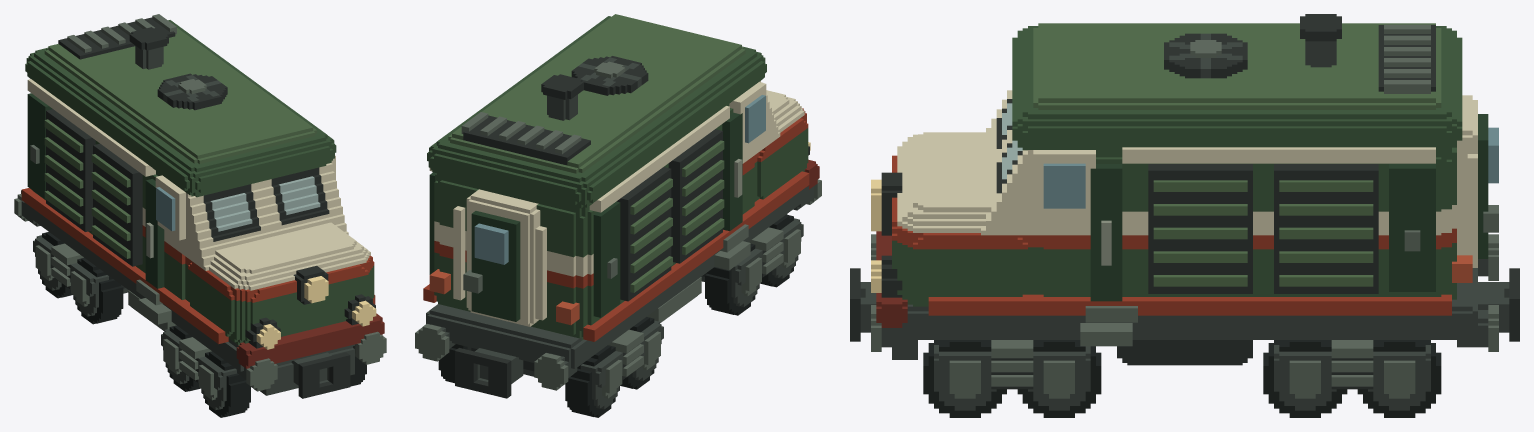
Rendered from locomotive.glb.
3 renders of one model, left to right at view 1: azimuth 30°, elevation 25°; view 2: azimuth 150°, elevation 25°; view 3: azimuth 270°, elevation 25°, orthographic. The views are drawn at different scales.
Visible parts, largest first — view 1: locomotive; view 2: locomotive; view 3: locomotive.
Part boxes in pixels (left/top/right/bottom): locomotive: left=14, top=14, right=386, bottom=417; locomotive: left=415, top=14, right=821, bottom=417; locomotive: left=850, top=14, right=1519, bottom=417.
Bounding box in the file's own units: 3 × 4.44 × 7.68.
